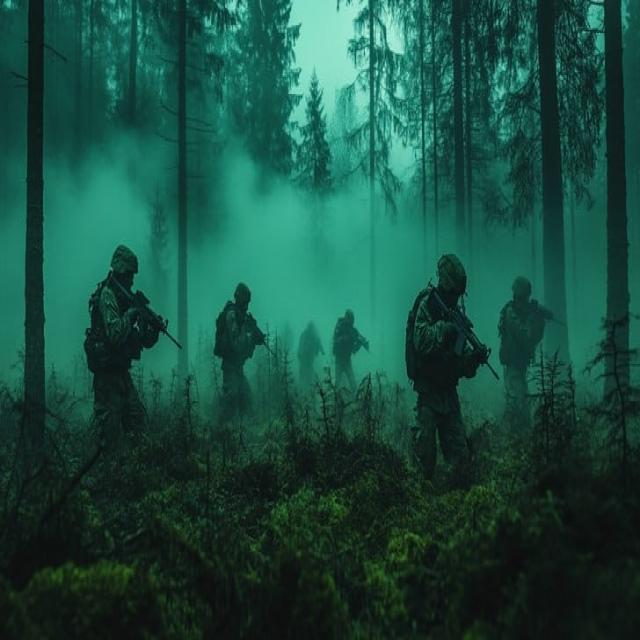Forest: (0, 0, 640, 640)
Militant: (76, 213, 180, 457), (404, 220, 488, 488), (494, 265, 565, 455), (208, 256, 268, 433), (320, 296, 371, 426)
